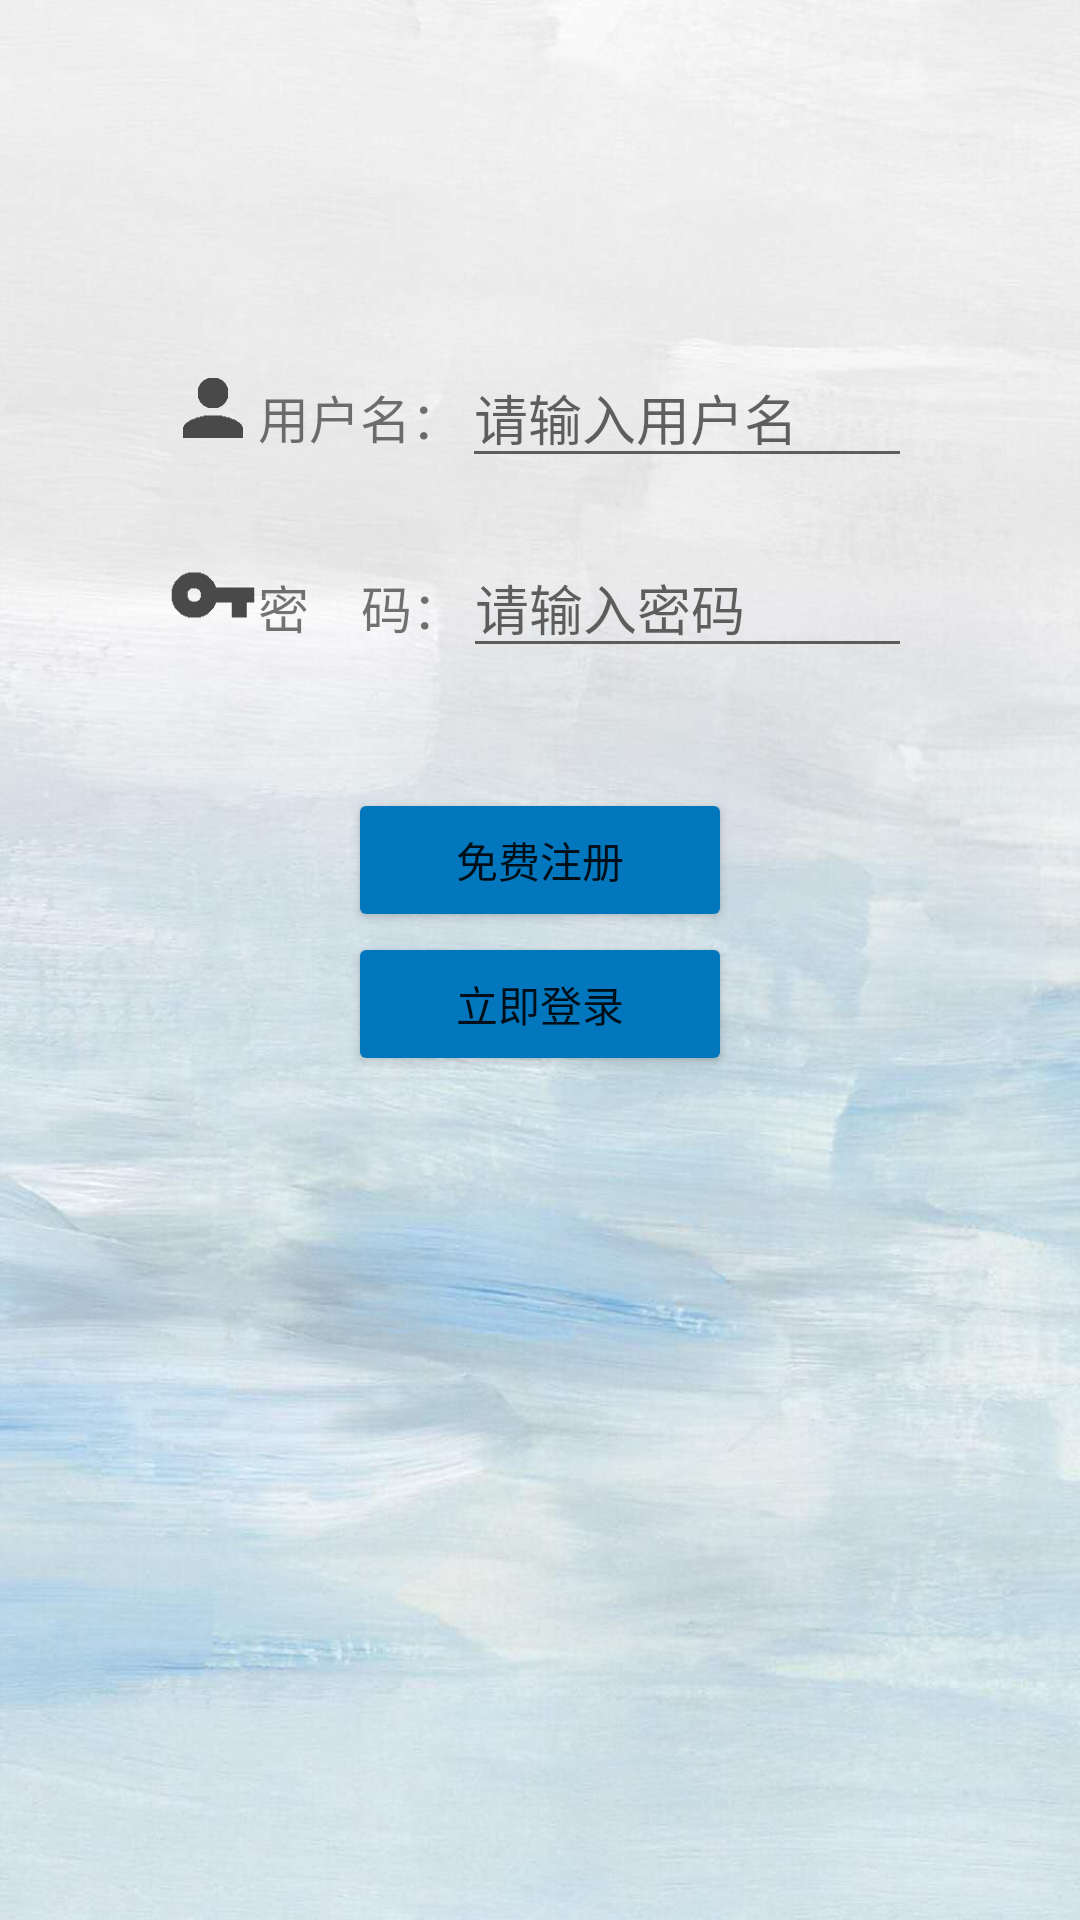

Where icons sit on this 1080x1920 app screen, as (x1, y1, x2, y2):
person android: (183, 378, 243, 438)
vpn key android: (171, 572, 255, 618)
